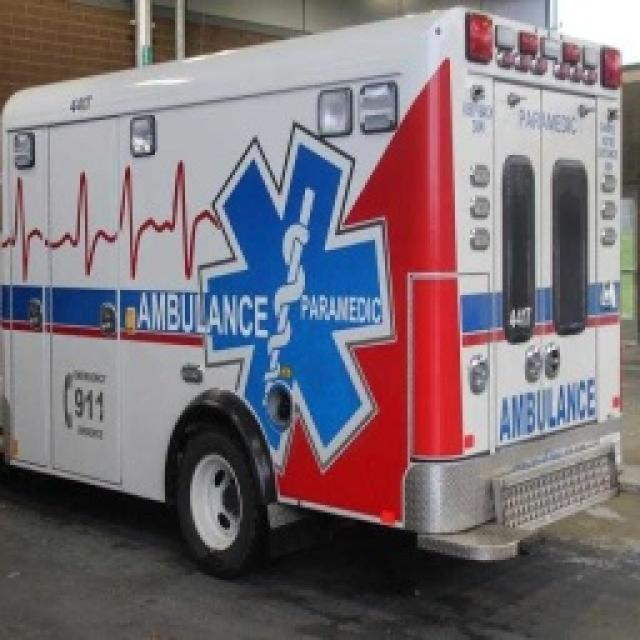emergency-vehicle: (10, 1, 640, 589)
